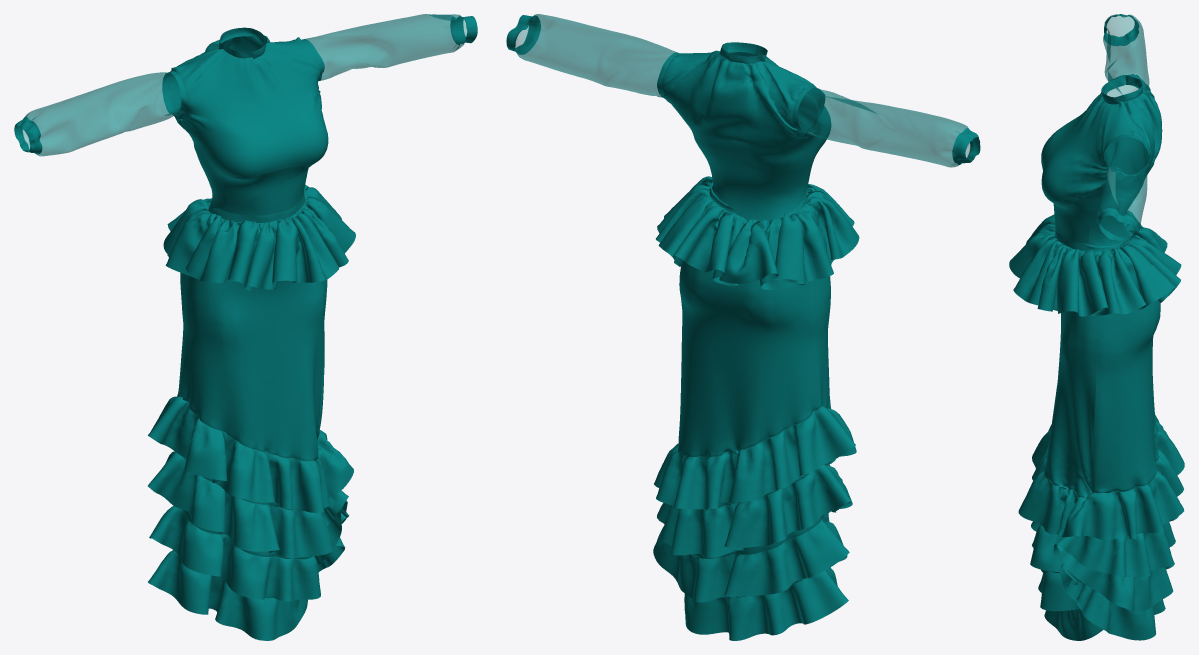
File: G_teal_colored.glb
3 views of the same model, side by side, from view 1: azimuth 30°, elevation 25°; view 2: azimuth 150°, elevation 25°; view 3: azimuth 270°, elevation 25° (orthographic). The views are drawn at different scales.
Parts seen in each view (by area): view 1: Garment; view 2: Garment; view 3: Garment.
Part boxes in pixels (x1,y1,x2,y2): Garment: [14, 14, 477, 640]; Garment: [506, 14, 980, 640]; Garment: [1009, 14, 1184, 640].
Bounding box in the file's own units: 1.15 × 1.41 × 0.4119.
1 material, 1 textured.
